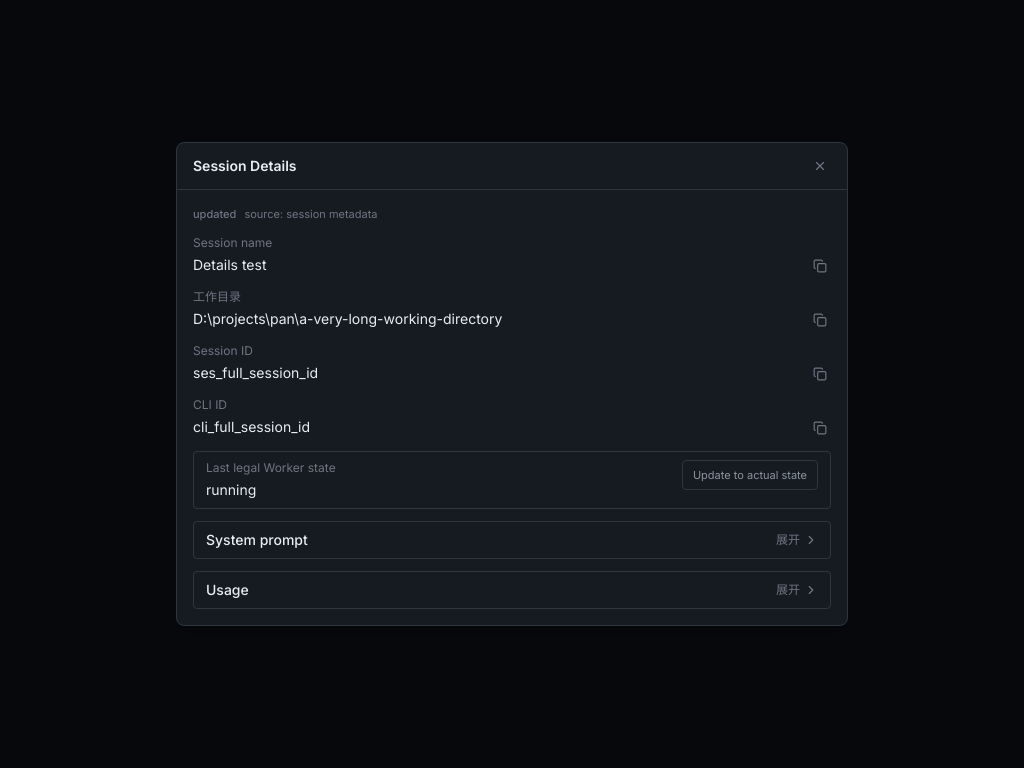
Test: SessionDetailsModal › shows persisted legal state and refreshes it from a successful runtime sync
expect the element named "Legal Worker state" shows "running": met, box [206,481,256,498]
Click the button "Update to actual state": [750, 475] box [682,460,818,490]
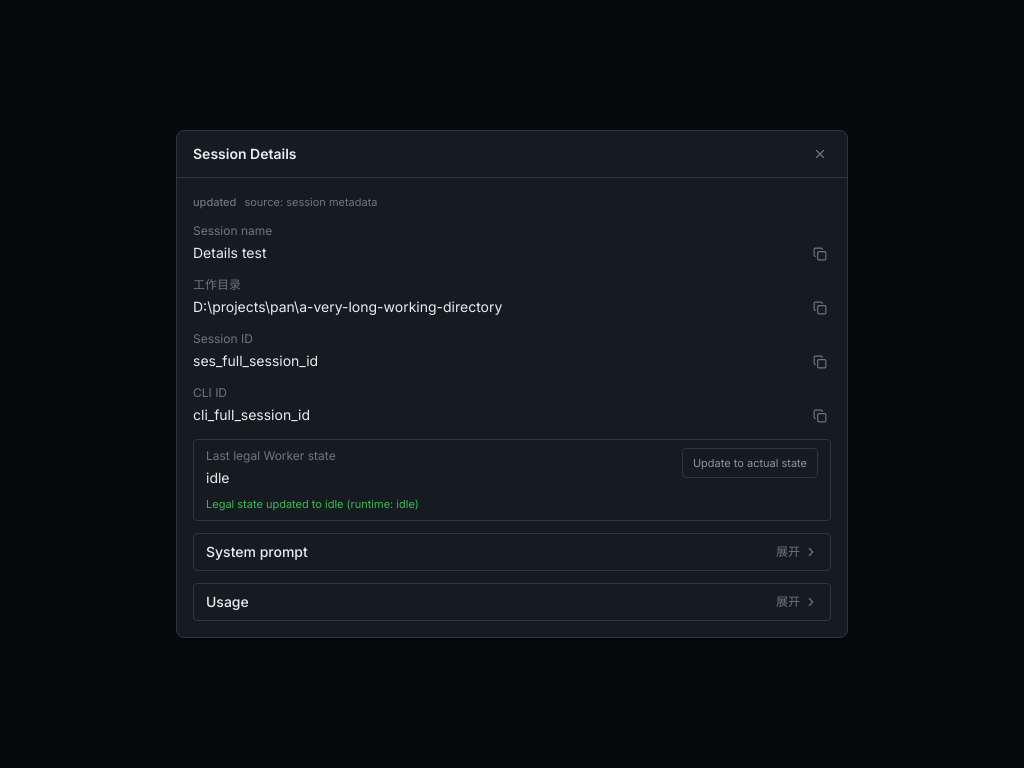
expect the message shows "Legal state updated to idle": met, box [206,496,419,510]
expect the element named "Legal Worker state" shows "idle": met, box [206,468,230,486]
